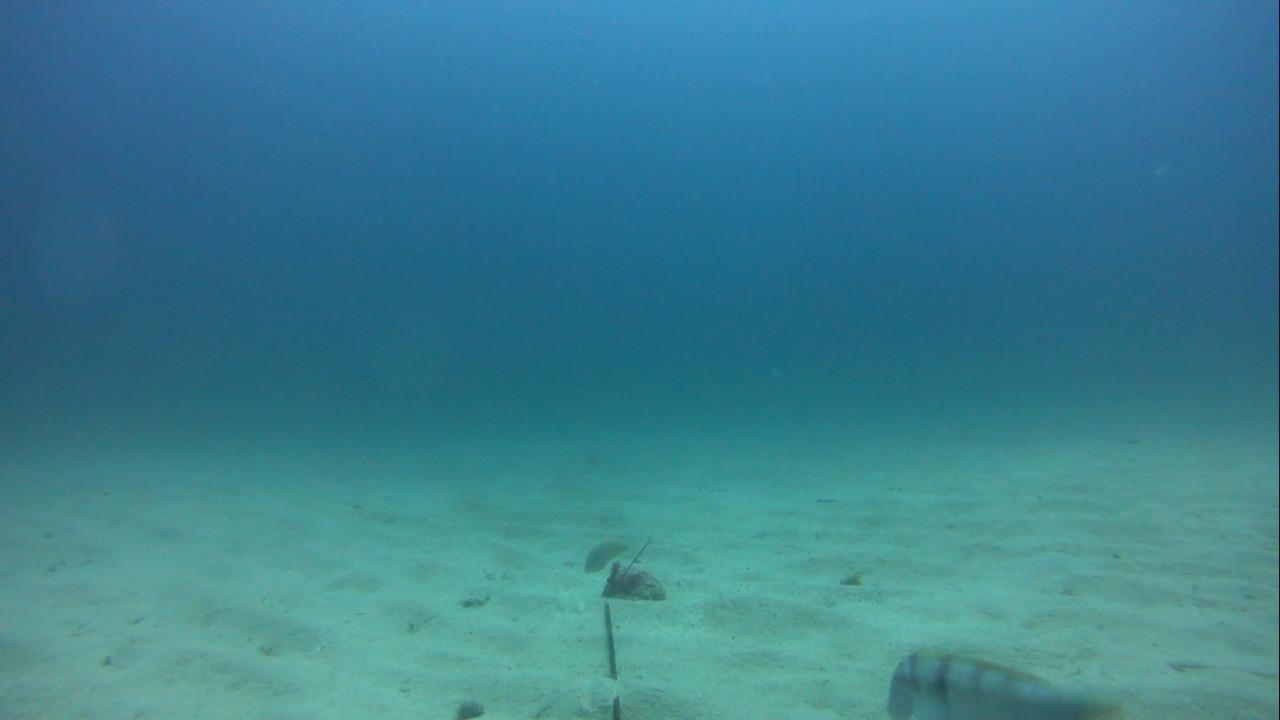raor: (881, 646, 1135, 719), (582, 536, 636, 574)
